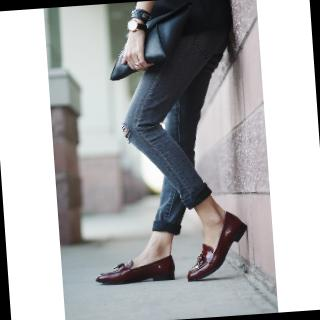loafers: (178, 207, 254, 284), (86, 250, 177, 290)
